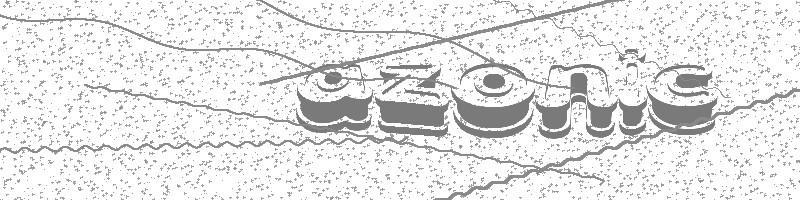a: (295, 62, 373, 133)
c: (646, 64, 715, 136)
i: (617, 48, 647, 137)
n: (535, 63, 618, 140)
o: (451, 63, 535, 140)
z: (373, 64, 451, 138)
